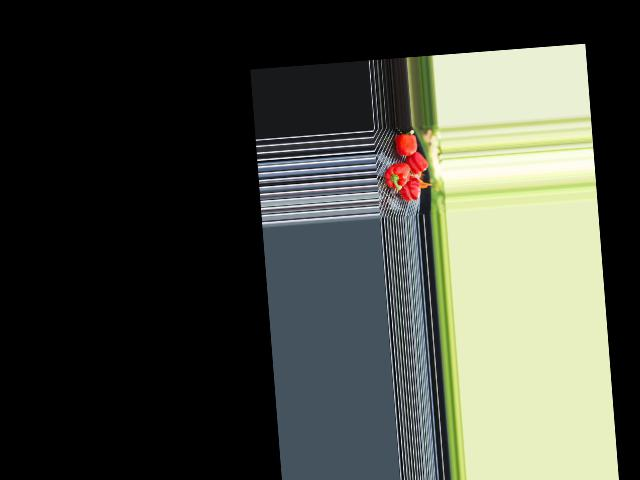bell_pepper: (399, 175, 422, 202)
